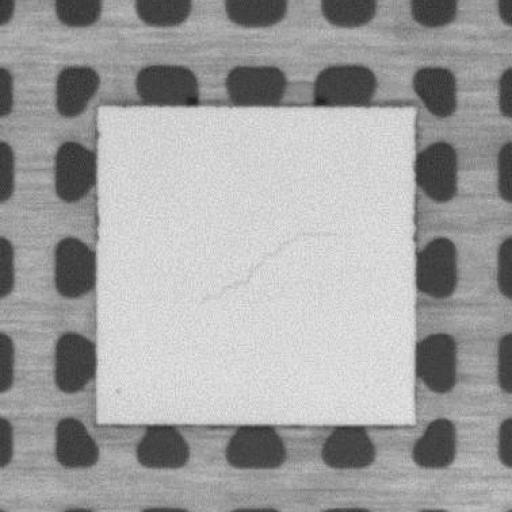DIE_CRACK: (188, 227, 340, 312)
